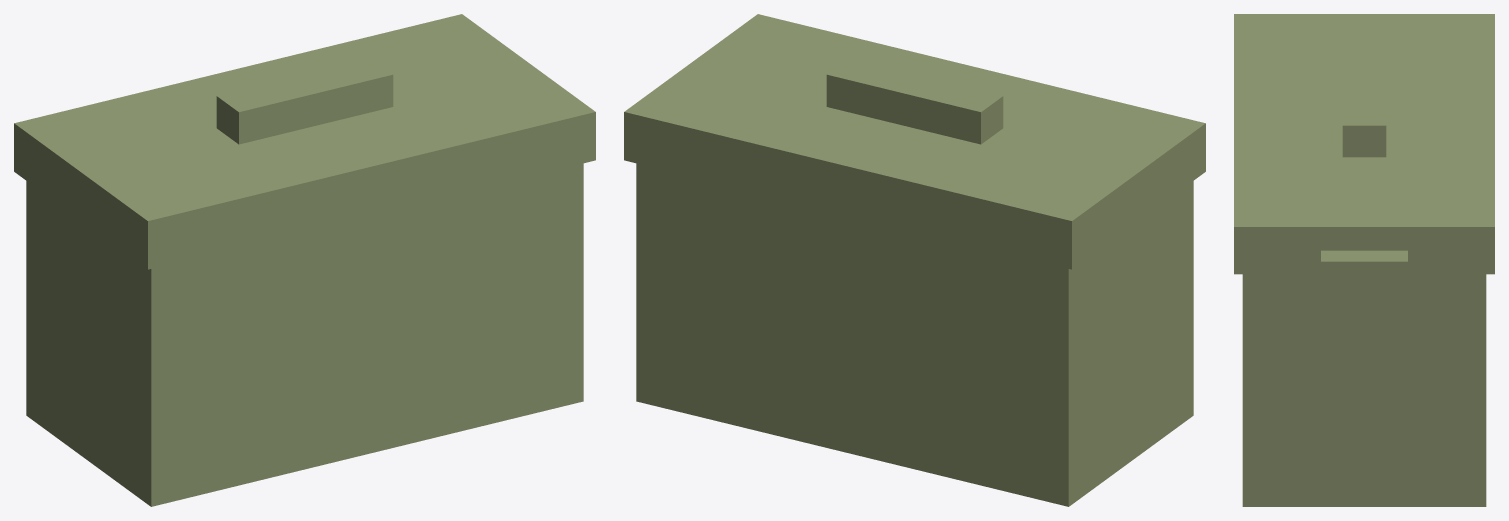
The model's file is pickup_ammo.glb.
3 views of the same model, side by side, from view 1: azimuth 30°, elevation 25°; view 2: azimuth 150°, elevation 25°; view 3: azimuth 270°, elevation 25° (orthographic). The views are drawn at different scales.
Visible parts, largest first — view 1: ammo_box_body; view 2: ammo_box_body; view 3: ammo_box_body.
Part boxes in pixels (x1=…): ammo_box_body: x1=14, y1=14, x2=595, y2=506; ammo_box_body: x1=624, y1=14, x2=1205, y2=506; ammo_box_body: x1=1234, y1=14, x2=1494, y2=506.
Bounding box in the file's own units: 0.305 × 0.2 × 0.15.
